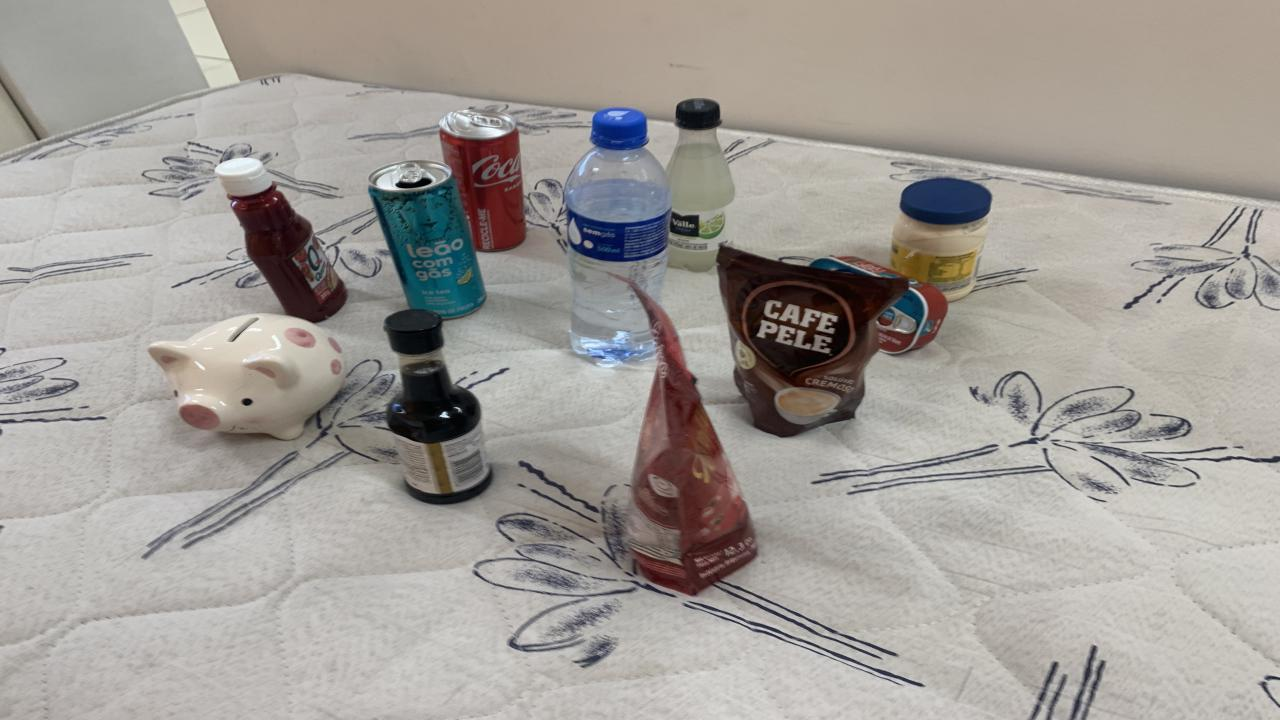Coffee-Pantry_Items: (718, 246, 910, 437)
Coke-Drinks: (440, 109, 525, 251)
English_Sauce-Pantry_Items: (385, 309, 492, 504)
Ketchup-Pantry_Items: (215, 158, 348, 322)
Mayonnaise-Pantry_Items: (890, 178, 992, 302)
Pig_Safe-Miscellaneous: (148, 313, 345, 441)
Soda-Drinks: (668, 99, 735, 272)
Tea-Drinks: (215, 158, 348, 322), (368, 159, 485, 319)
Tomato_Sauce-Pantry_Items: (628, 281, 758, 594)
Tuna_Can-Pantry_Items: (878, 279, 948, 354), (810, 257, 900, 278)
Water_Bottle-Drinks: (565, 107, 670, 368)
